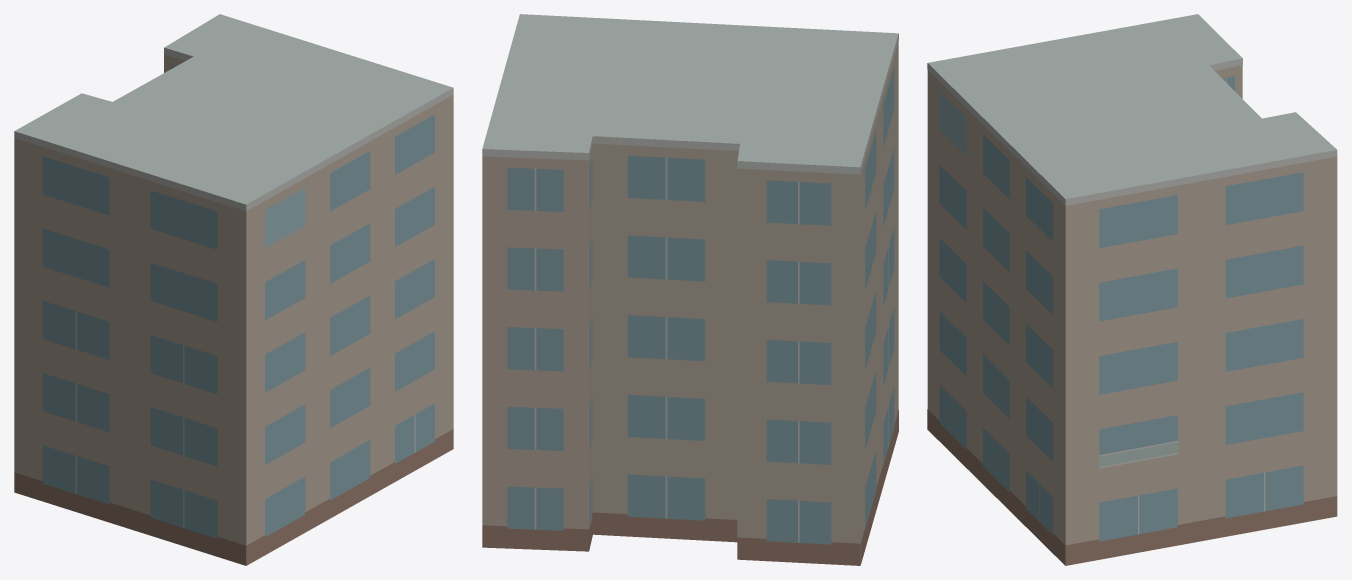
File: survey-upis-32881038.glb
3 views of the same model, side by side, from view 1: azimuth 30°, elevation 25°; view 2: azimuth 150°, elevation 25°; view 3: azimuth 270°, elevation 25° (orthographic). The views are drawn at different scales.
Visible parts, largest first — view 1: survey-upis-32881038.tmp; view 2: survey-upis-32881038.tmp; view 3: survey-upis-32881038.tmp.
Boxes of the visible parts, x1,y1,x2,y2 form: survey-upis-32881038.tmp: [14, 14, 453, 565]; survey-upis-32881038.tmp: [482, 14, 898, 565]; survey-upis-32881038.tmp: [927, 14, 1337, 565].
Size of the model in its own units: 14.31 by 13.2 by 13.38.
